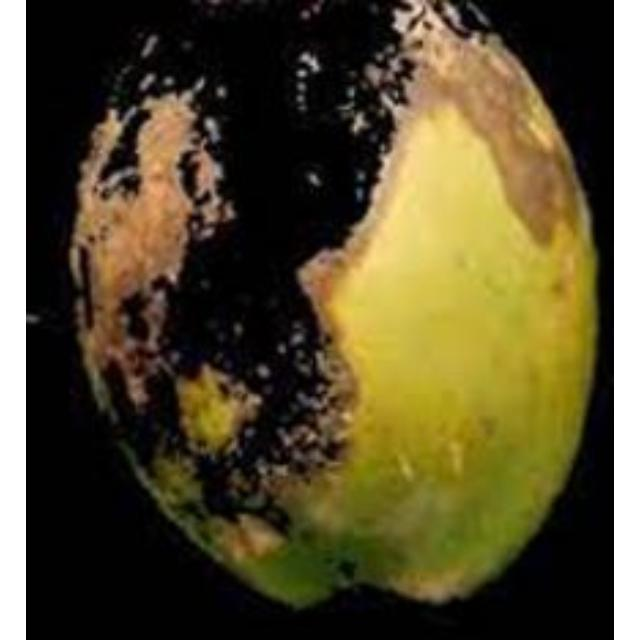damaged: (37, 0, 600, 618)
